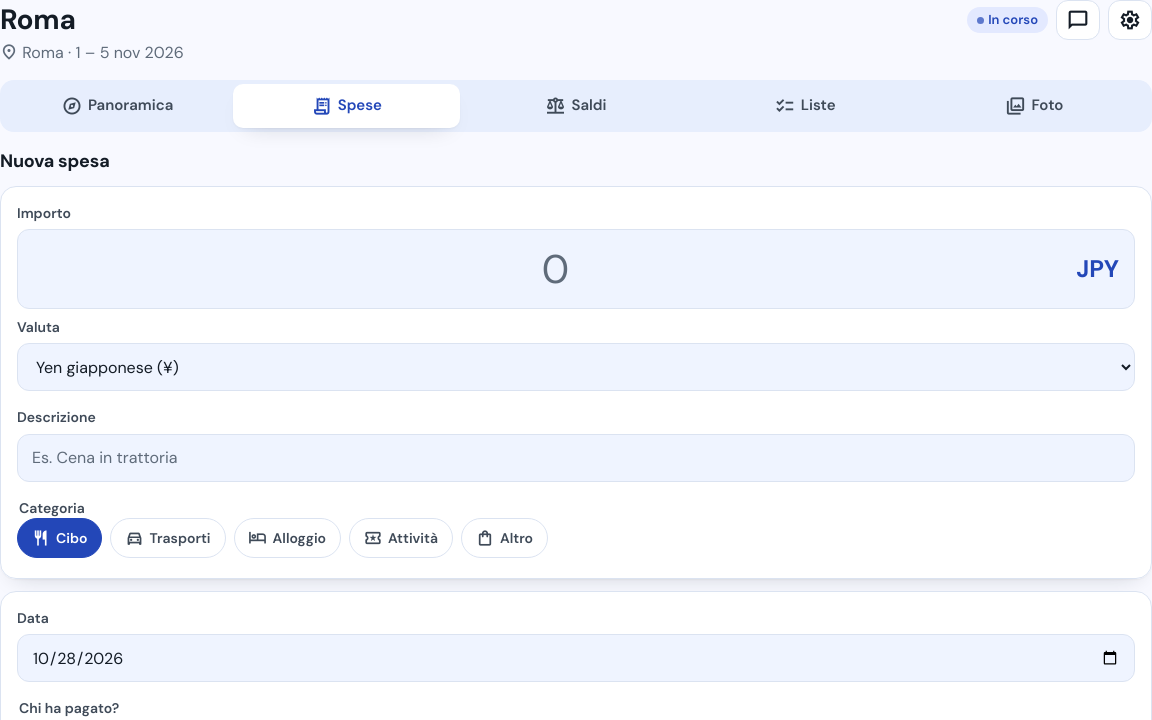
Test: ExpenseFormPage › quota a testa e «Salva» usano la valuta del viaggio, non sempre l'euro
Type "2000" into the field labelled "Importo" at point(576, 269), box left=17, top=229, right=1135, bottom=309
(page scrolled)
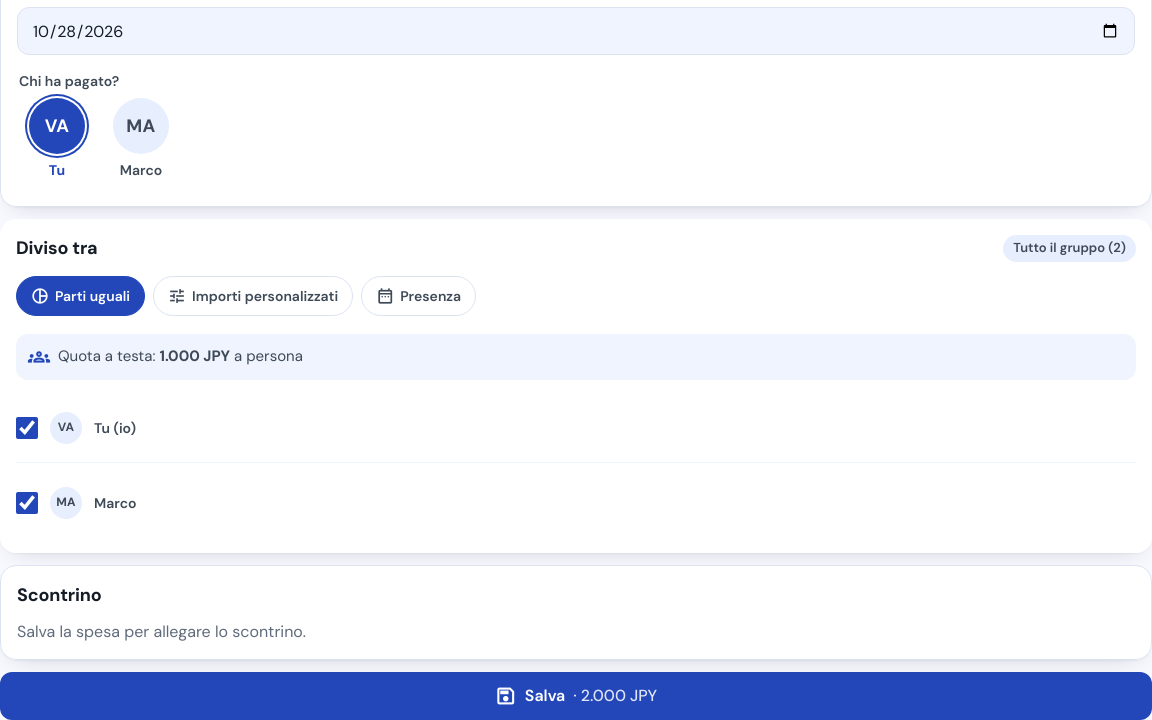
Expected: the button "Salva · 2.000 JPY" is shown, left=0, top=672, right=1151, bottom=719
